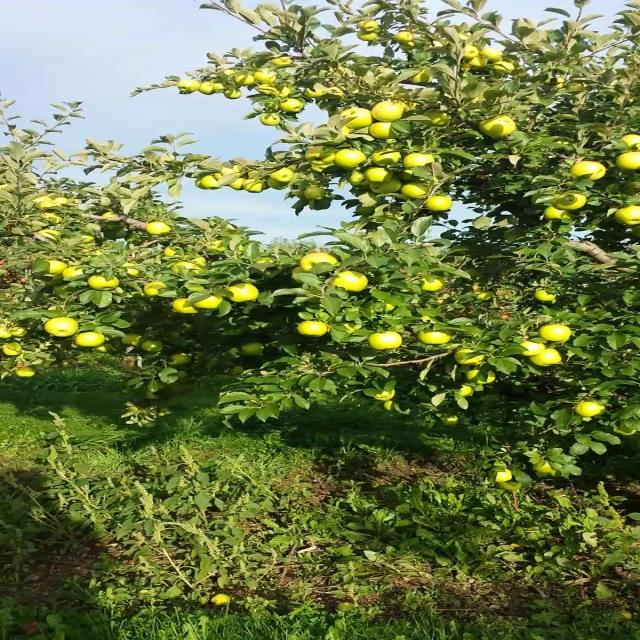apple: (483, 116, 517, 139), (333, 272, 370, 292), (369, 332, 404, 351), (554, 192, 588, 211), (227, 284, 258, 303), (540, 324, 572, 342), (305, 256, 340, 271), (575, 164, 606, 180), (77, 332, 107, 348), (49, 320, 78, 336), (376, 104, 405, 120), (305, 148, 334, 164), (532, 352, 562, 367), (340, 152, 368, 168), (326, 128, 352, 145), (92, 276, 121, 291), (454, 352, 485, 366), (348, 112, 375, 128), (369, 124, 396, 140), (376, 180, 404, 195), (419, 332, 453, 344), (618, 152, 638, 171), (575, 404, 604, 417), (177, 260, 206, 273), (376, 152, 400, 167), (404, 156, 434, 168), (468, 372, 498, 384), (618, 208, 639, 225), (369, 168, 391, 184), (42, 196, 69, 209), (426, 200, 455, 212), (298, 324, 327, 336), (404, 184, 427, 199), (426, 112, 450, 126), (518, 344, 546, 356), (333, 128, 352, 144), (198, 296, 222, 308), (547, 208, 571, 220), (177, 300, 199, 313), (284, 100, 306, 113), (177, 80, 199, 93), (483, 48, 505, 61), (497, 60, 517, 74), (148, 224, 171, 236), (205, 240, 228, 252), (241, 344, 263, 356), (255, 72, 277, 84), (305, 188, 327, 200), (412, 72, 434, 84), (42, 212, 64, 224), (312, 160, 334, 172), (148, 284, 169, 296), (269, 172, 297, 181), (561, 84, 588, 93), (305, 88, 327, 99), (312, 200, 334, 211), (63, 268, 84, 279), (198, 84, 217, 96), (625, 180, 639, 196), (248, 180, 265, 192), (426, 280, 443, 292), (504, 480, 521, 492), (618, 426, 638, 436), (170, 356, 192, 365), (440, 416, 459, 426), (468, 60, 487, 70), (269, 180, 290, 189), (326, 88, 347, 97), (141, 344, 164, 352), (625, 136, 639, 149), (6, 344, 21, 356), (205, 176, 220, 188), (49, 264, 68, 273), (276, 88, 295, 97), (262, 116, 279, 126), (262, 84, 276, 96), (241, 76, 256, 87), (234, 180, 247, 192), (170, 184, 183, 196), (127, 336, 144, 345), (376, 392, 395, 400), (540, 292, 555, 302), (397, 32, 412, 42), (49, 276, 64, 286), (20, 368, 36, 377), (42, 232, 60, 240), (355, 176, 368, 187), (468, 48, 482, 58), (362, 24, 379, 32), (362, 32, 379, 40), (497, 472, 512, 481), (13, 328, 28, 337), (540, 464, 555, 473), (163, 248, 178, 257), (276, 60, 292, 68), (476, 292, 492, 300), (255, 260, 276, 266), (227, 92, 242, 100), (127, 268, 142, 276), (383, 304, 398, 312), (497, 292, 512, 300), (8, 328, 21, 337), (461, 388, 475, 396), (404, 104, 420, 111), (404, 172, 416, 181), (404, 44, 418, 51), (84, 236, 96, 244), (106, 212, 119, 219), (348, 324, 357, 333), (148, 392, 158, 400), (383, 404, 393, 411), (220, 84, 228, 90)
